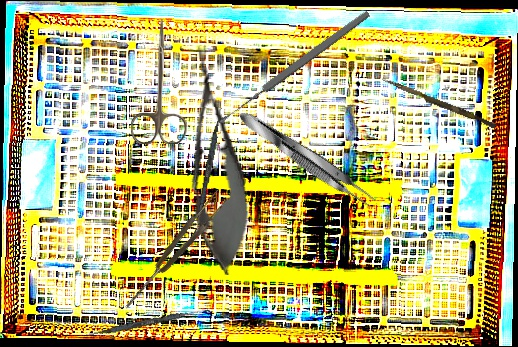Iris Scissors: (131, 19, 187, 144)
Micro Scissor: (173, 41, 257, 279)
Pusher: (379, 77, 498, 129)
Spatula Surgical: (85, 304, 211, 341), (193, 106, 223, 237)
Surgical Spoon: (215, 8, 372, 127)
Tissue Forceps: (233, 103, 381, 214), (117, 187, 232, 314)
